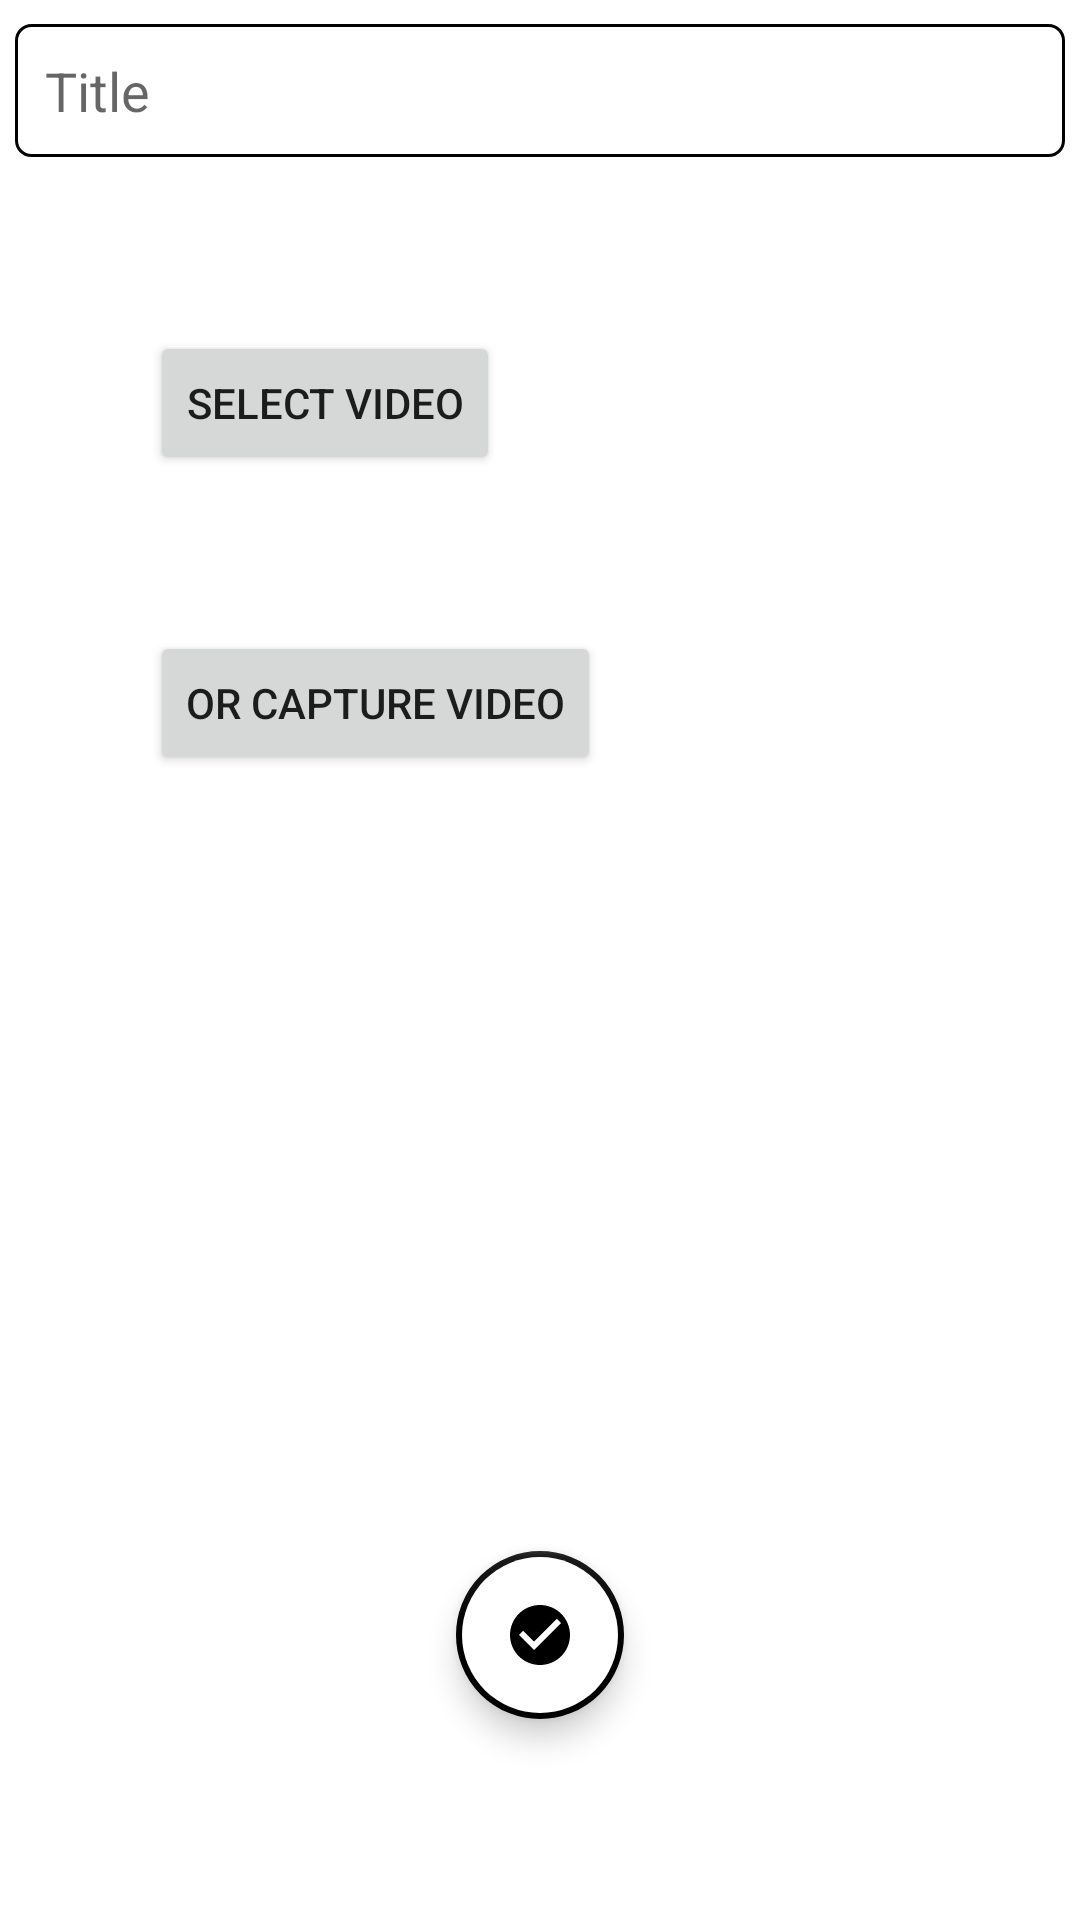

Icons on this 1080 × 1920 Android screen, each with its box as box(x1, y1, x2, y2):
Tick to add new note: box(456, 1551, 624, 1719)
